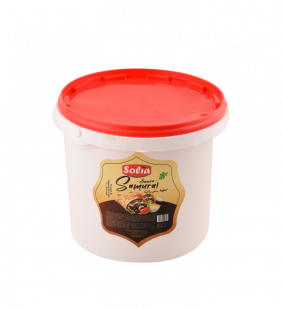SOLIA: (48, 63, 234, 267)
